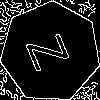Z: (25, 27, 79, 73)
